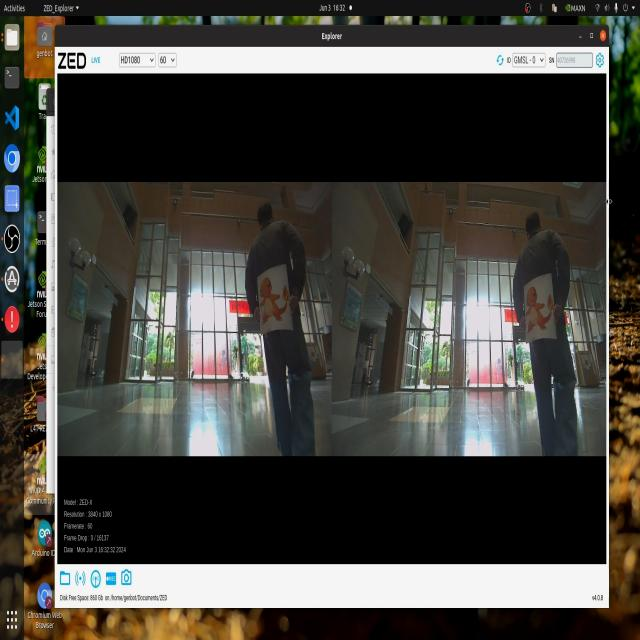red: (252, 264, 304, 336), (520, 275, 556, 338)
